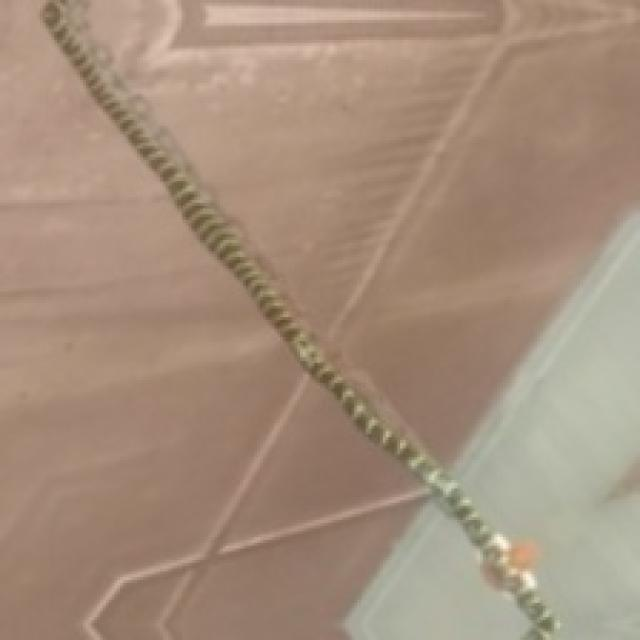mangrove cat snake: (43, 0, 554, 637)
